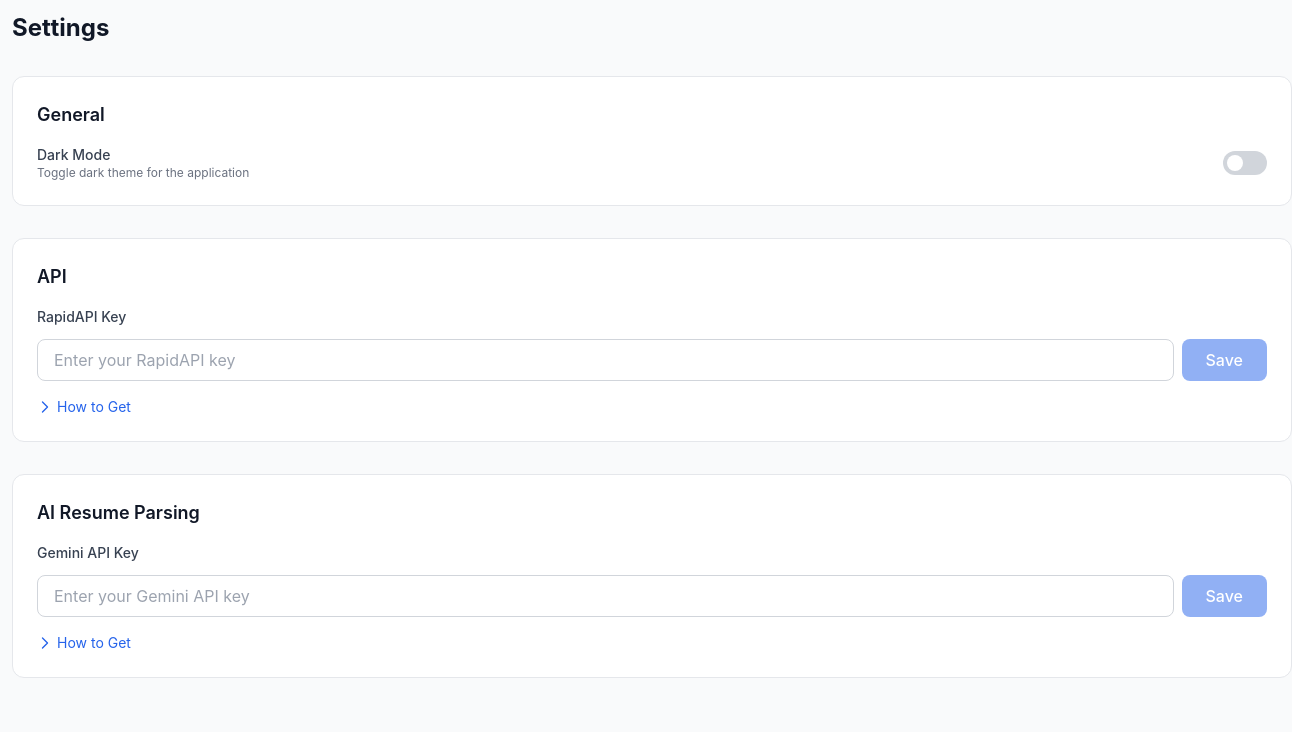
Test case: Settings › shows error message when API key validation fails
The width and height of the screenshot is (1292, 732).
Type "bad-key" into the password field with test id "api-key-input" at (605, 360), box x1=37 y1=339 x2=1174 y2=381
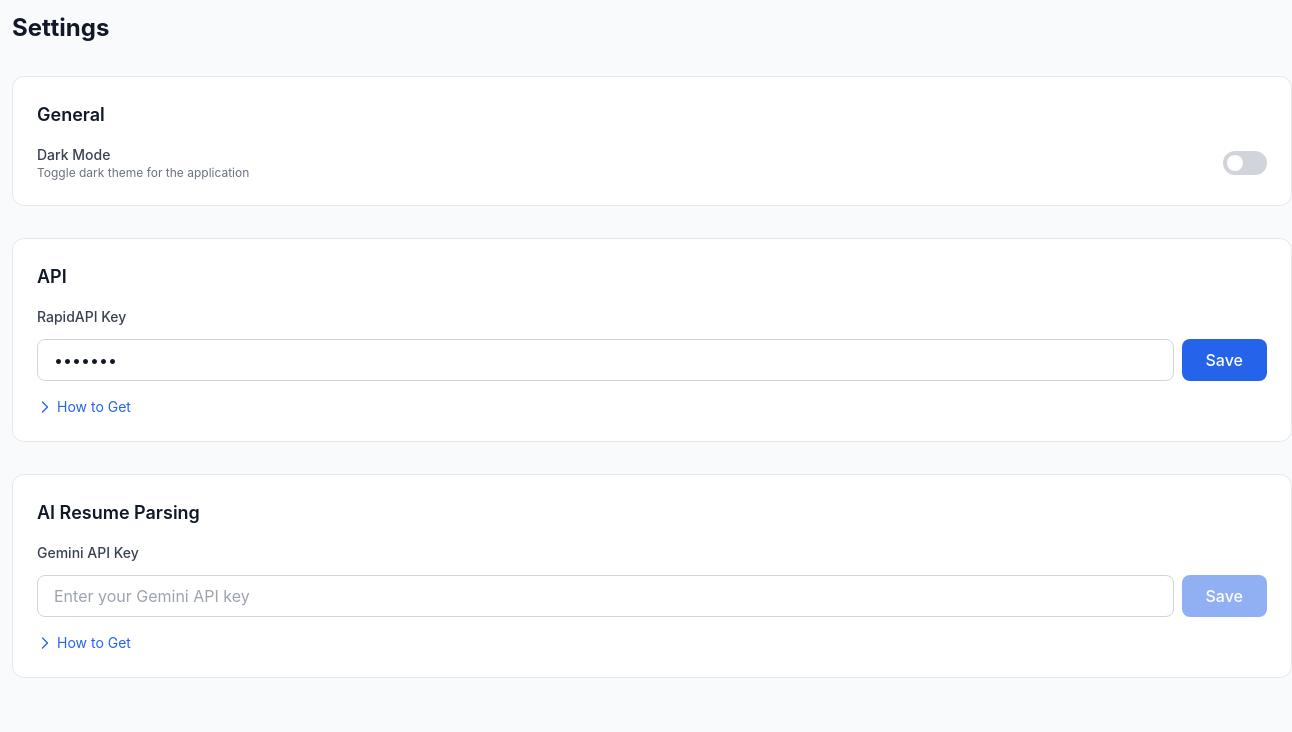
Click the button with test id "save-api-key" at (1224, 360), box x1=1182 y1=339 x2=1267 y2=381
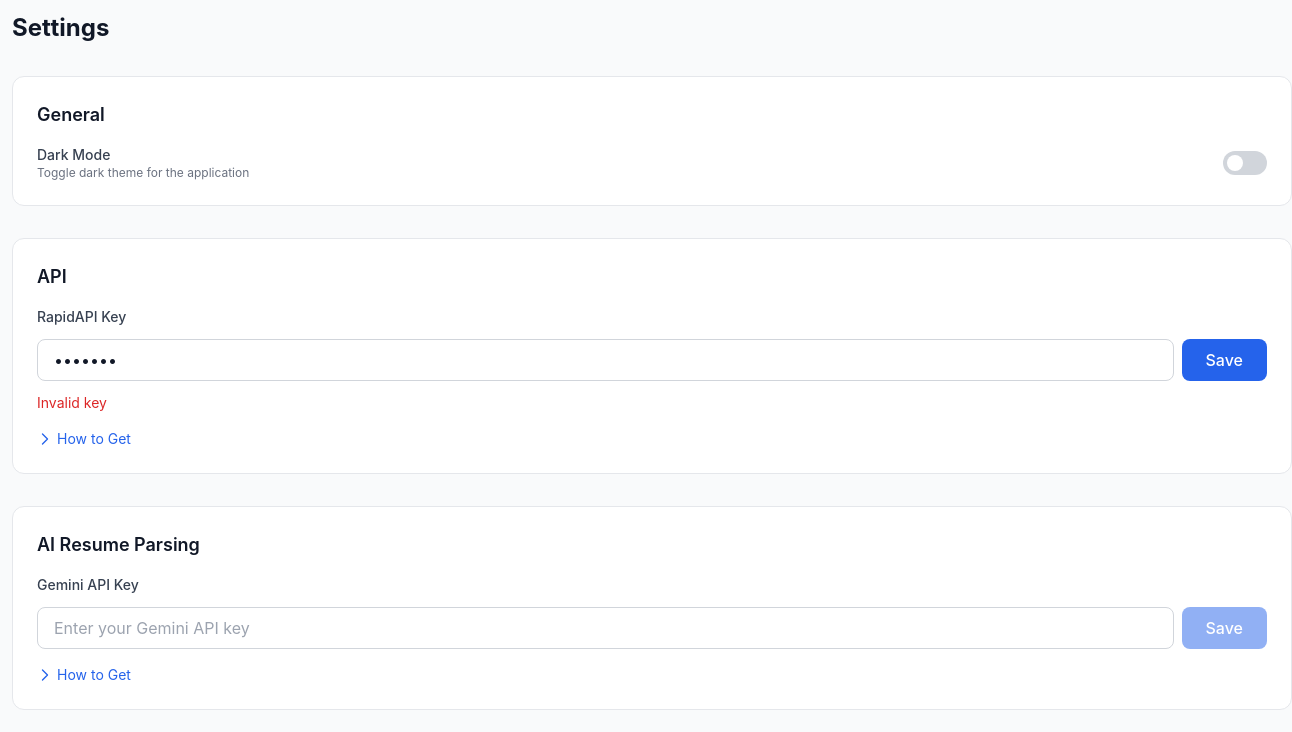
expect the text with test id "api-key-message" reads "Invalid key": met, box x1=37 y1=394 x2=107 y2=411
